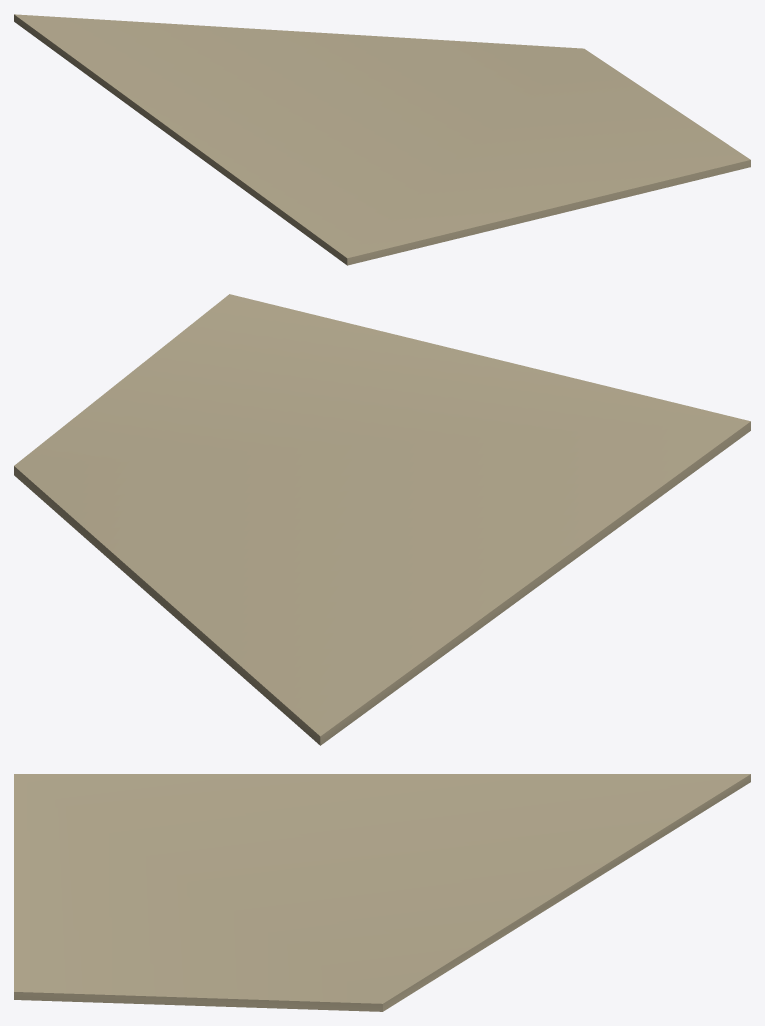
File: breach_wedge_c_14x10.glb
3 views of the same model, one above another, from view 1: azimuth 30°, elevation 25°; view 2: azimuth 150°, elevation 25°; view 3: azimuth 270°, elevation 25° (orthographic). The views are drawn at different scales.
Visible parts, largest first — view 1: WedgeC; view 2: WedgeC; view 3: WedgeC.
Boxes of the visible parts, x1,y1,x2,y2 form: WedgeC: (14, 14, 750, 265); WedgeC: (14, 294, 750, 745); WedgeC: (14, 774, 750, 1011).
Bounding box in the file's own units: 6.95 × 0.2987 × 9.94.
